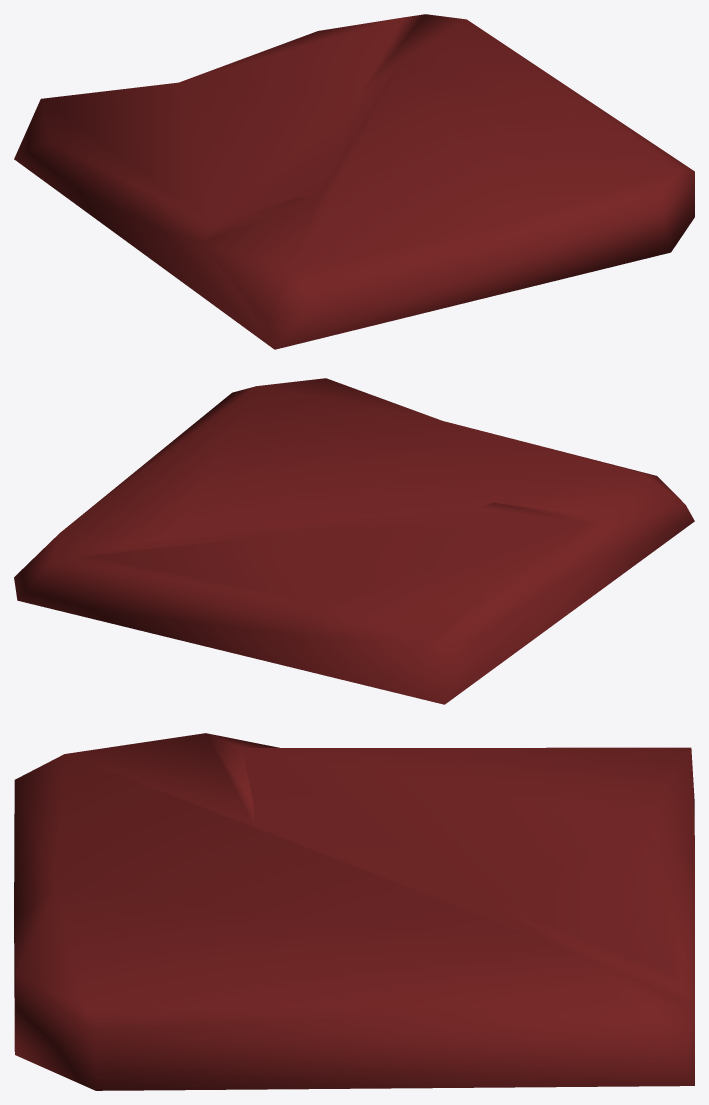
The model's file is SM_stone_plate_02.fbx.
3 renders of one model, top to bottom at view 1: azimuth 30°, elevation 25°; view 2: azimuth 150°, elevation 25°; view 3: azimuth 270°, elevation 25°, orthographic. The views are drawn at different scales.
Parts seen in each view (by area): view 1: stone_plate_02; view 2: stone_plate_02; view 3: stone_plate_02.
Boxes of the visible parts, bbox=[...] form: stone_plate_02: bbox=[14, 14, 694, 349]; stone_plate_02: bbox=[14, 378, 694, 704]; stone_plate_02: bbox=[14, 733, 694, 1090].
Size of the model in its own units: 90.6 by 11.01 by 90.5.
